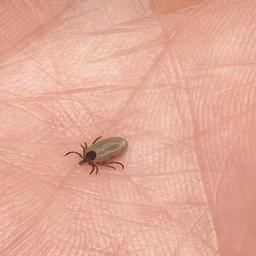Ixodes scapularis: (64, 136, 128, 175)
